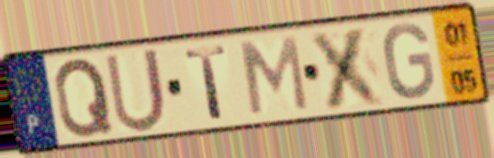G: (381, 21, 438, 102)
M: (237, 33, 312, 118)
Q: (52, 55, 117, 141)
T: (182, 42, 231, 122)
U: (101, 44, 170, 136)
X: (306, 23, 390, 112)
